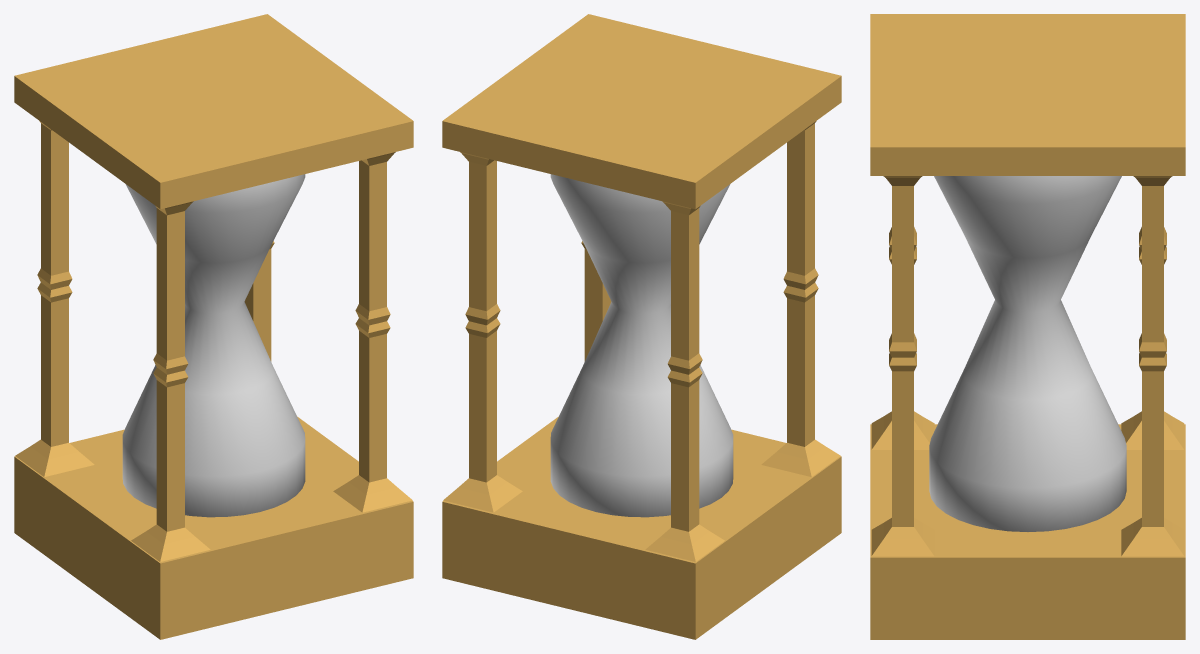
File: hourglass.fbx
3 renders of one model, left to right at view 1: azimuth 30°, elevation 25°; view 2: azimuth 150°, elevation 25°; view 3: azimuth 270°, elevation 25°, orthographic. The views are drawn at different scales.
Visible parts, largest first — view 1: Cube, Cylinder; view 2: Cube, Cylinder; view 3: Cube, Cylinder.
Part boxes in pixels (x1=…): Cube: x1=14, y1=14, x2=413, y2=639; Cylinder: x1=122, y1=174, x2=305, y2=517; Cube: x1=442, y1=14, x2=841, y2=639; Cylinder: x1=550, y1=174, x2=733, y2=517; Cube: x1=870, y1=14, x2=1185, y2=639; Cylinder: x1=929, y1=176, x2=1126, y2=531.
Bounding box in the file's own units: 420 × 724 × 420.
